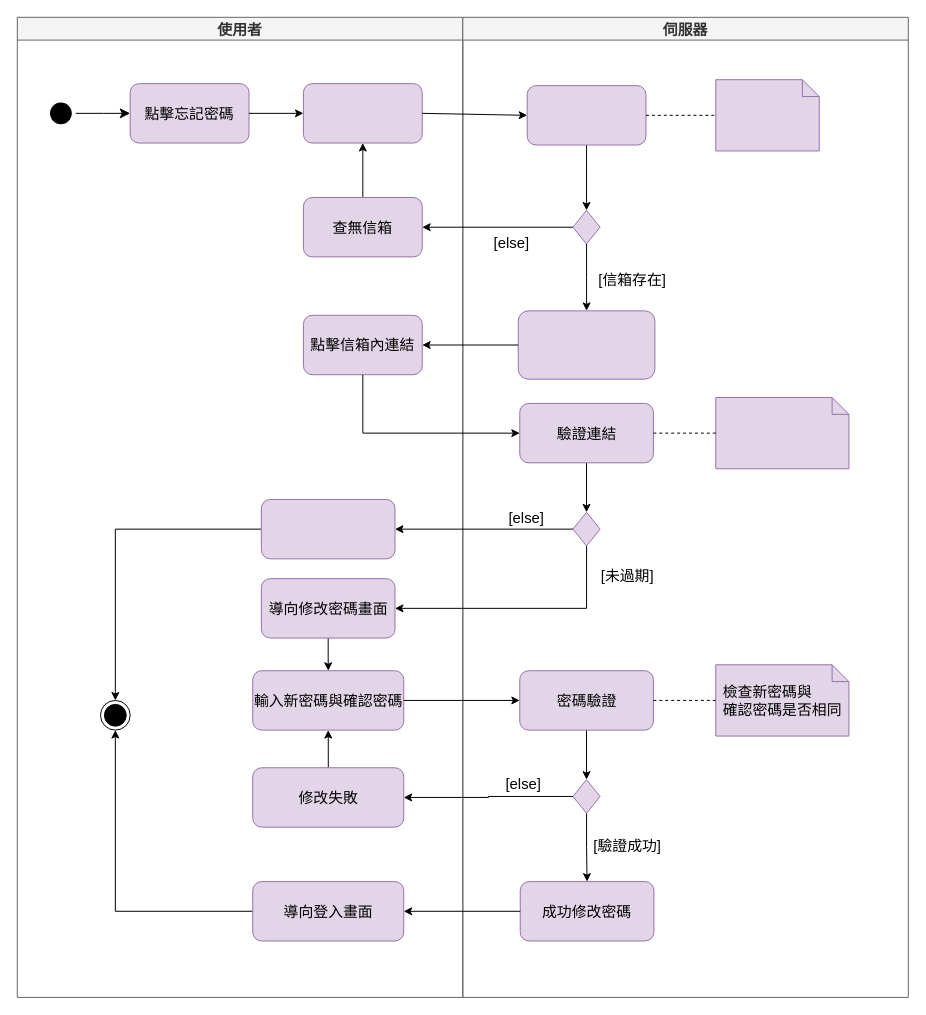
Image size: 926x1015. Some labels were removed from this diagram. Each missing label, with the centre of its shape:
去資料庫查詢信箱是否存在: (x=767, y=115)
檢查連結是否過期: (x=782, y=432)
發送含有驗證碼的 修改密碼連結: (x=586, y=344)
輸入帳號: (x=362, y=113)
顯示過期錯誤: (x=327, y=528)
驗證信箱: (x=586, y=115)
